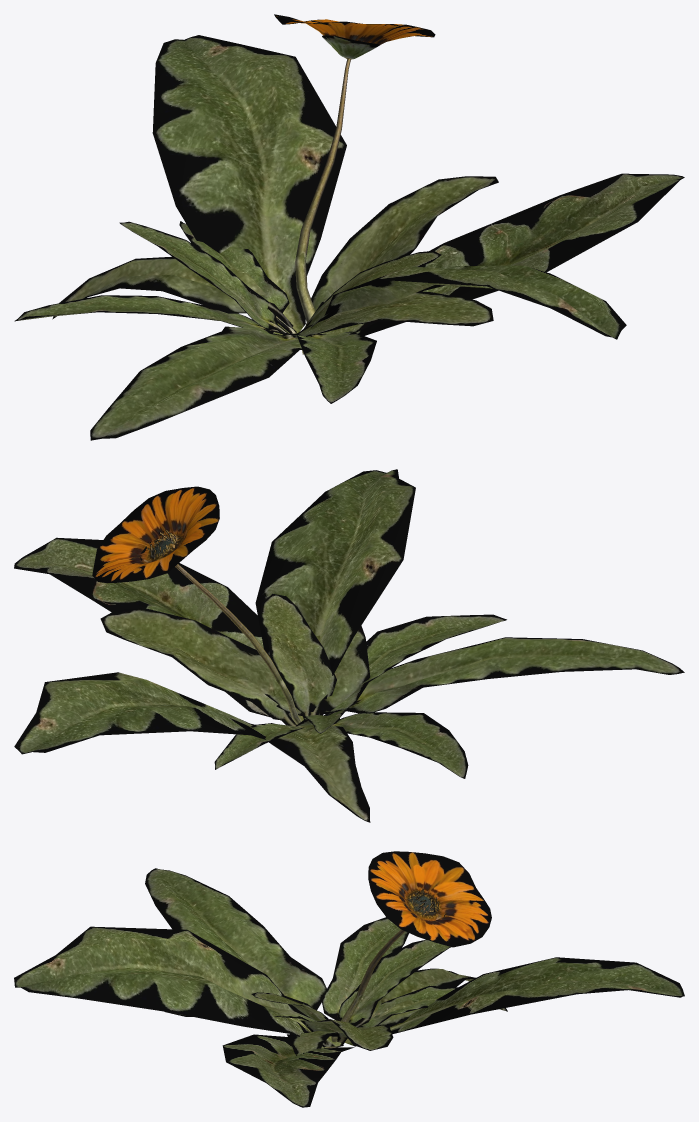
File: flower_gazania.glb
3 renders of one model, top to bottom at view 1: azimuth 30°, elevation 25°; view 2: azimuth 150°, elevation 25°; view 3: azimuth 270°, elevation 25°, orthographic. The views are drawn at different scales.
Visible parts, largest first — view 1: flower_gazania_d_LOD0; view 2: flower_gazania_d_LOD0; view 3: flower_gazania_d_LOD0.
Part boxes in pixels (bbox=[...]): flower_gazania_d_LOD0: bbox=[14, 14, 684, 440]; flower_gazania_d_LOD0: bbox=[14, 469, 684, 822]; flower_gazania_d_LOD0: bbox=[14, 851, 684, 1107].
Bounding box in the file's own units: 0.2457 × 0.0998 × 0.2664.
Materials: 1 (1 with a texture image).
